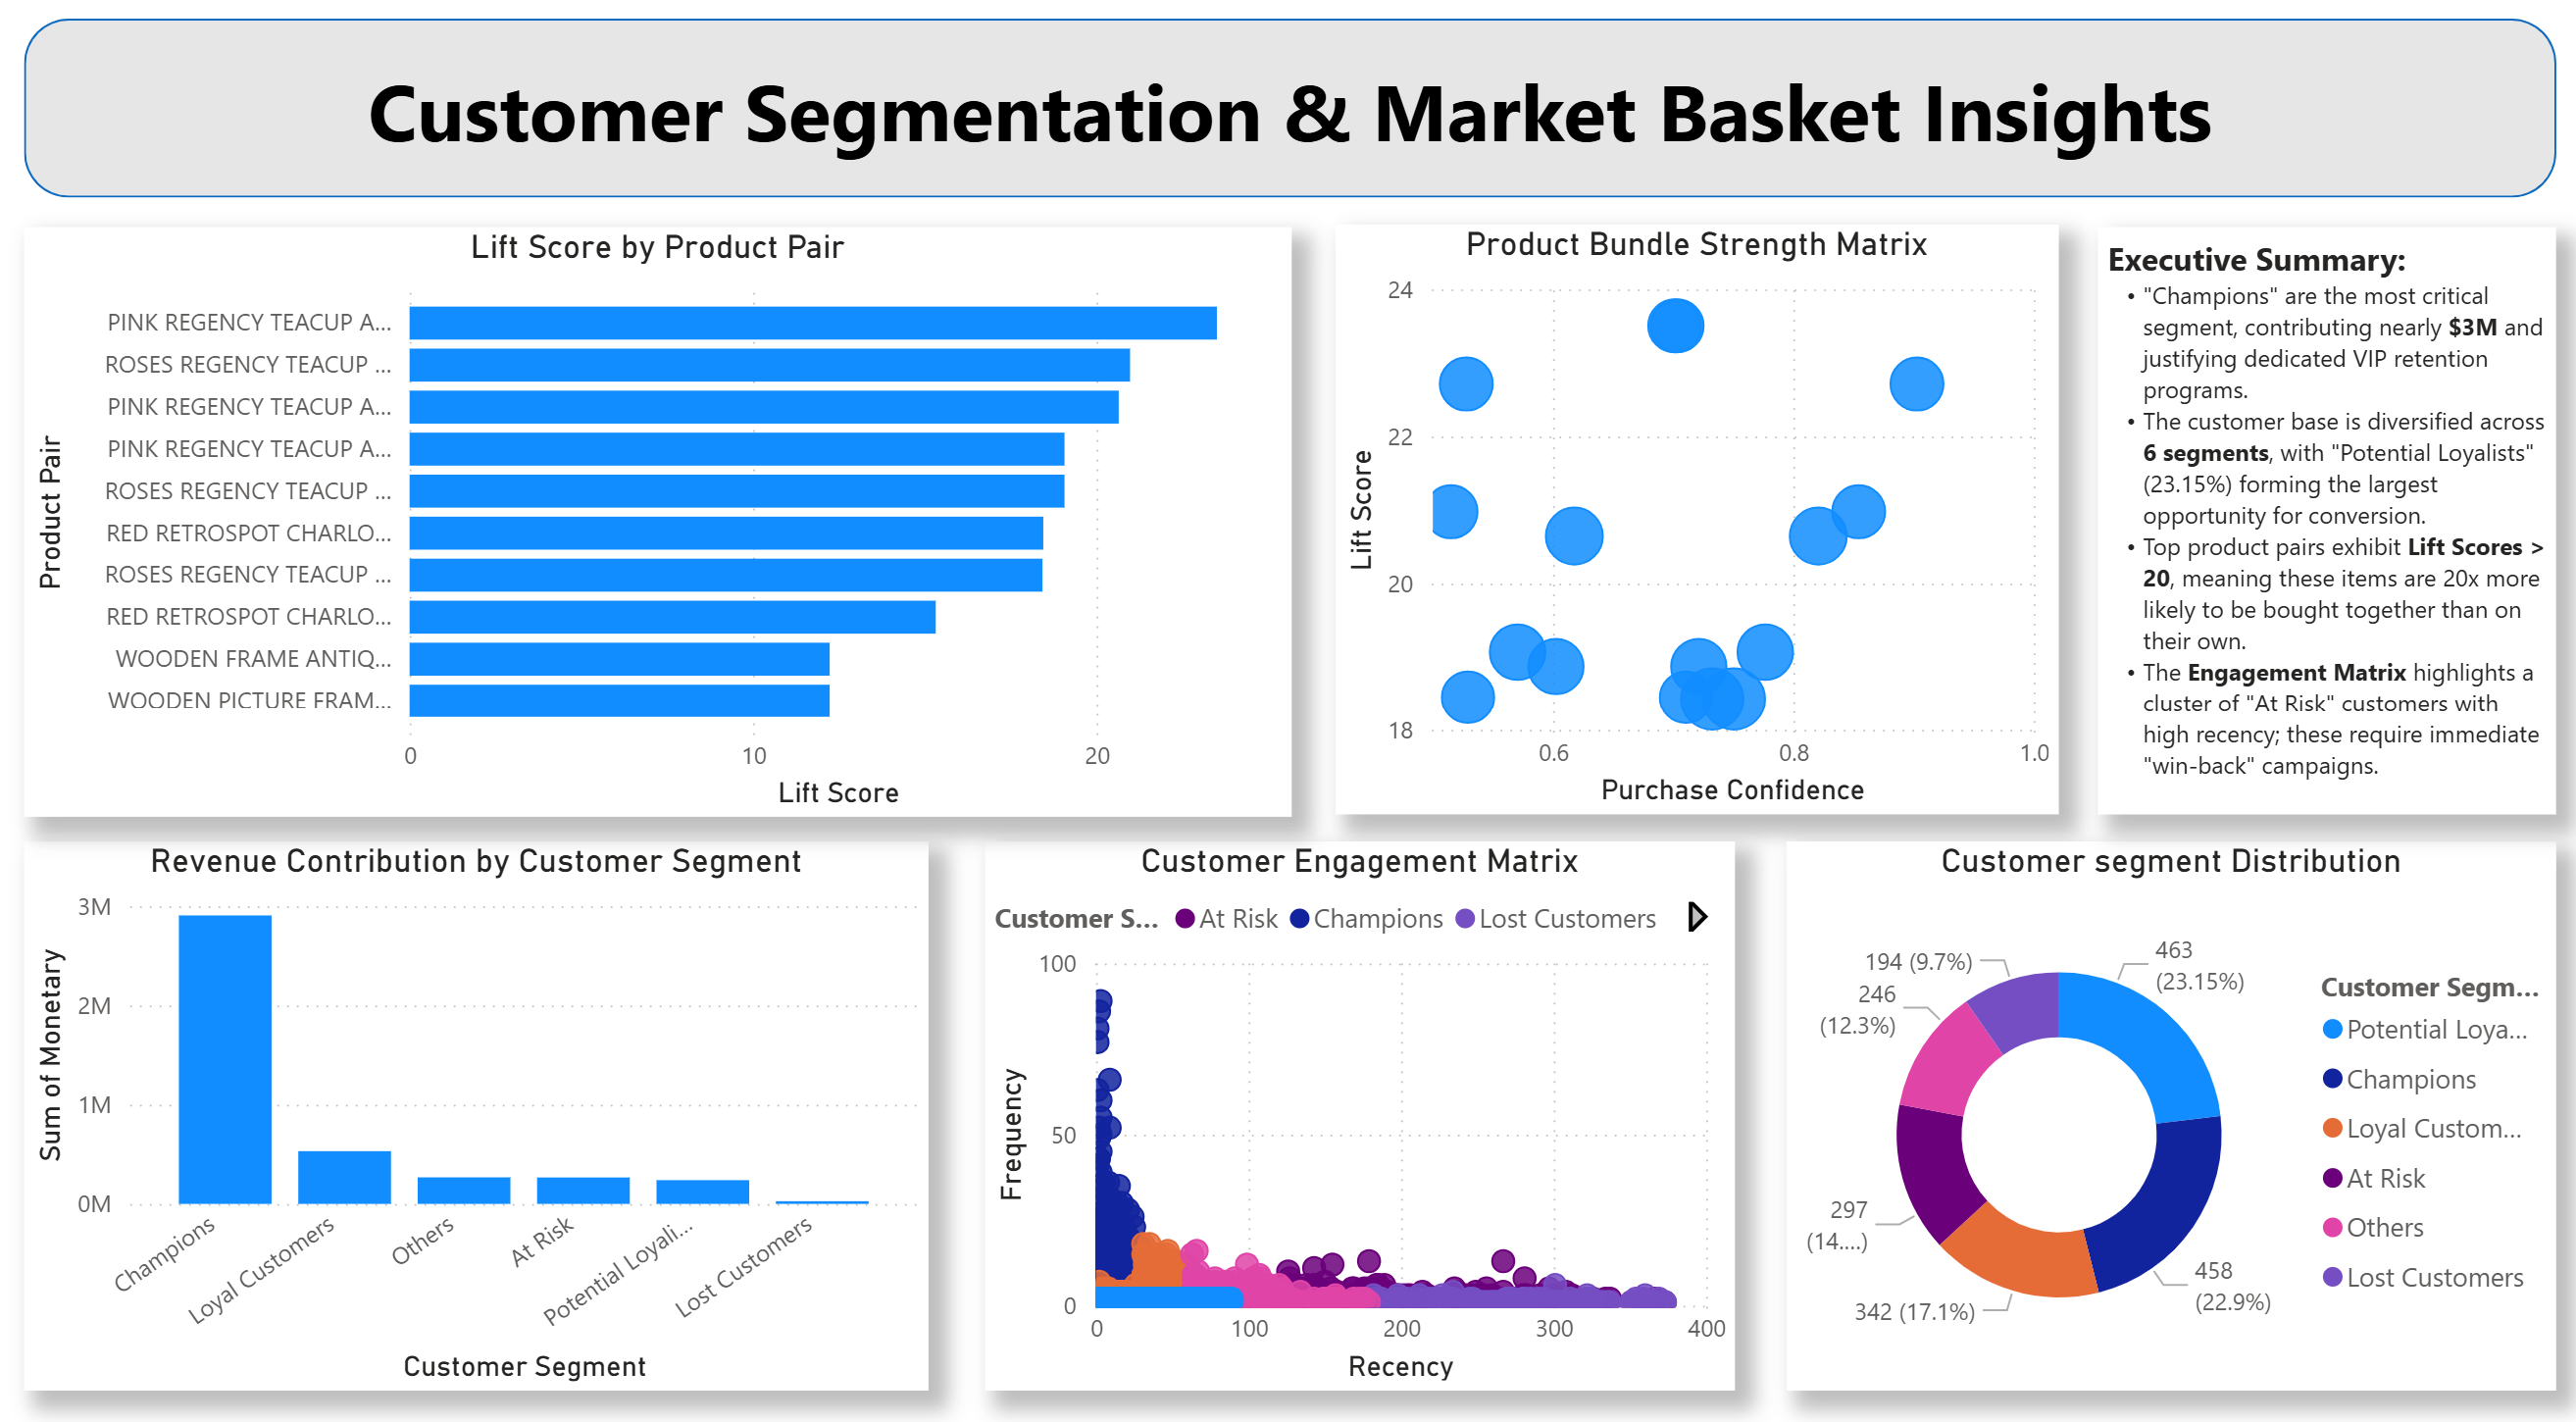

Layout of this report page (visuals, bound fields, positions):
{"tool":"powerbi","page":{"name":"Page 2","canvas":[1320,740],"ordinal":1},"visuals":[{"type":"scatterChart","title":"Product Bundle Strength Matrix","fields":{"X":["Avg(Market_Basket_Rules.confidence)"],"Y":["Avg(Market_Basket_Rules.lift)"],"Size":["Avg(Market_Basket_Rules.support)"],"Category":["Market_Basket_Rules.Product Pair"]},"box":[682.5,115,368.8,301.2],"z":0},{"type":"clusteredColumnChart","title":"Revenue Contribution by Customer Segment","fields":{"Category":["RFM.Customer Segment"],"Y":["Sum(RFM.Monetary)"]},"box":[13.8,430,461.2,280],"z":1000},{"type":"scatterChart","title":"Customer Engagement Matrix","fields":{"X":["RFM.Recency"],"Y":["RFM.Frequency"],"Series":["RFM.Customer Segment"]},"box":[503.8,430,382.5,280],"z":2000},{"type":"donutChart","title":"Customer segment Distribution","fields":{"Category":["RFM.Customer Segment"],"Y":["CountNonNull(RFM.CustomerID)"]},"box":[912.5,430,392.5,280],"z":3000},{"type":"clusteredBarChart","title":"Lift Score by Product Pair","fields":{"Y":["Avg(Market_Basket_Rules.lift)"],"Category":["Market_Basket_Rules.Product Pair"]},"box":[13.8,116.2,646.2,301.2],"z":4000},{"type":"shape","title":"Customer Segmentation & Market Basket Insights","box":[13.8,10,1291.2,91.2],"z":5000},{"type":"textbox","box":[1071.2,116.2,233.8,300],"z":6000}]}

Visuals, with their boxes in screenshot pixels (x1, y1, x2, y2), scaled from the page's 1320x740 canvas onto the 2576x1422 screenshot:
"Product Bundle Strength Matrix" scatterChart: (1332, 221, 2051, 800)
"Revenue Contribution by Customer Segment" clusteredColumnChart: (26, 827, 927, 1364)
"Customer Engagement Matrix" scatterChart: (984, 827, 1730, 1364)
"Customer segment Distribution" donutChart: (1781, 827, 2547, 1364)
"Lift Score by Product Pair" clusteredBarChart: (26, 224, 1288, 802)
"Customer Segmentation & Market Basket Insights" shape: (26, 20, 2547, 194)
textbox: (2091, 224, 2547, 800)
